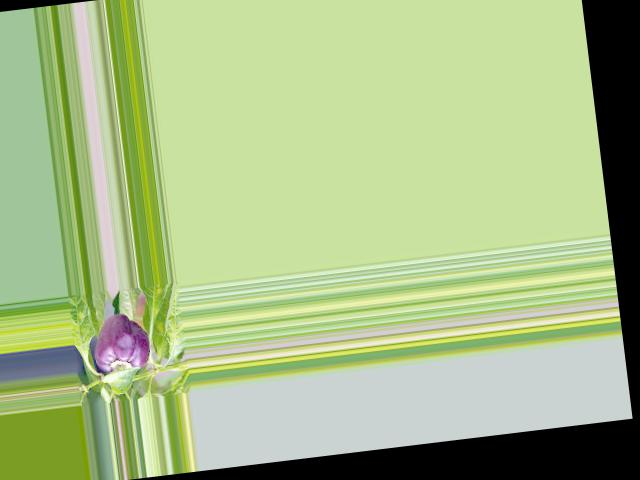bell_pepper: (90, 308, 154, 380)
